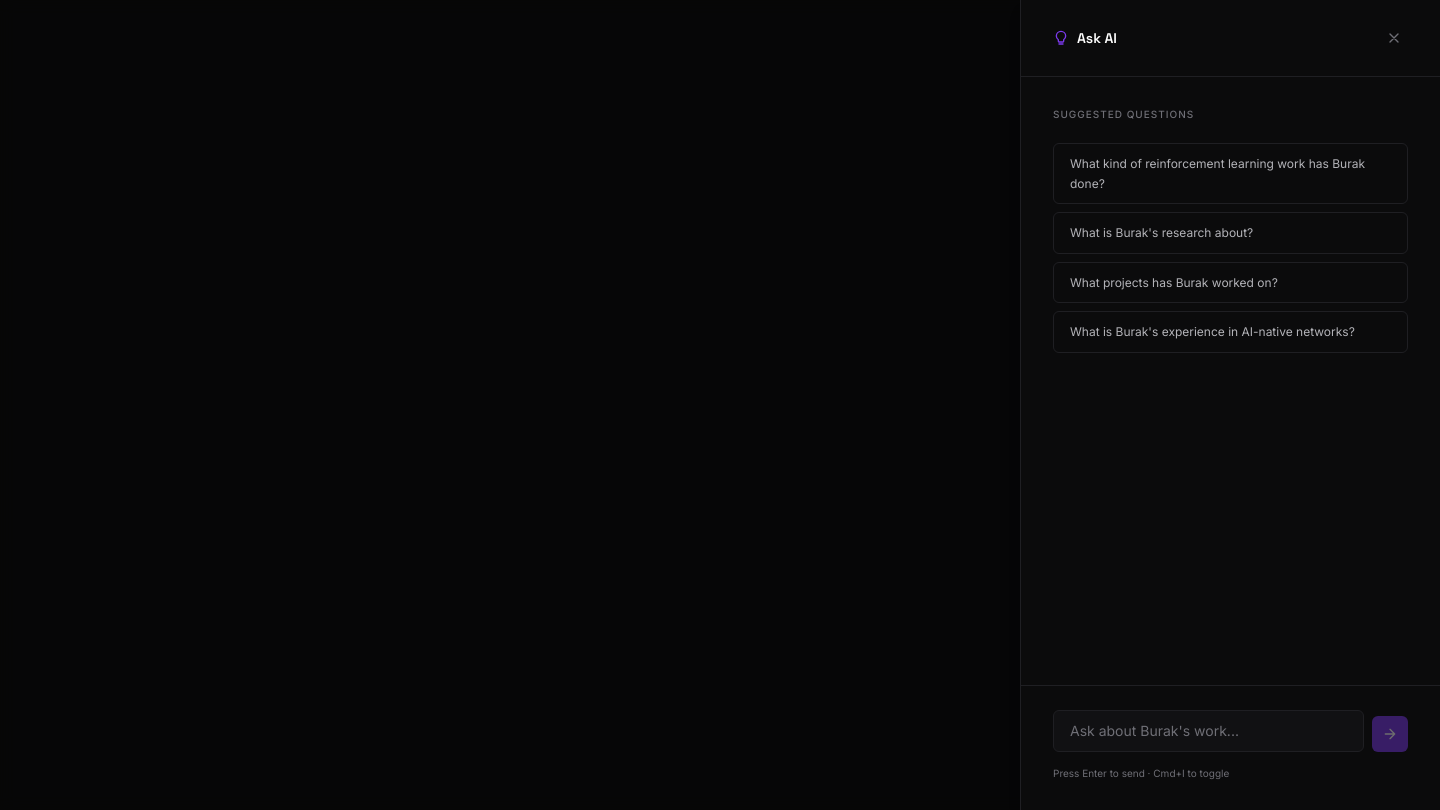
Scenario: AskAIPanel › submits a question and renders the answer
The width and height of the screenshot is (1440, 810).
In the text box with placeholder "Ask about Burak's work...": [1208, 731] box left=1053, top=710, right=1364, bottom=752, type "What does Burak do?"
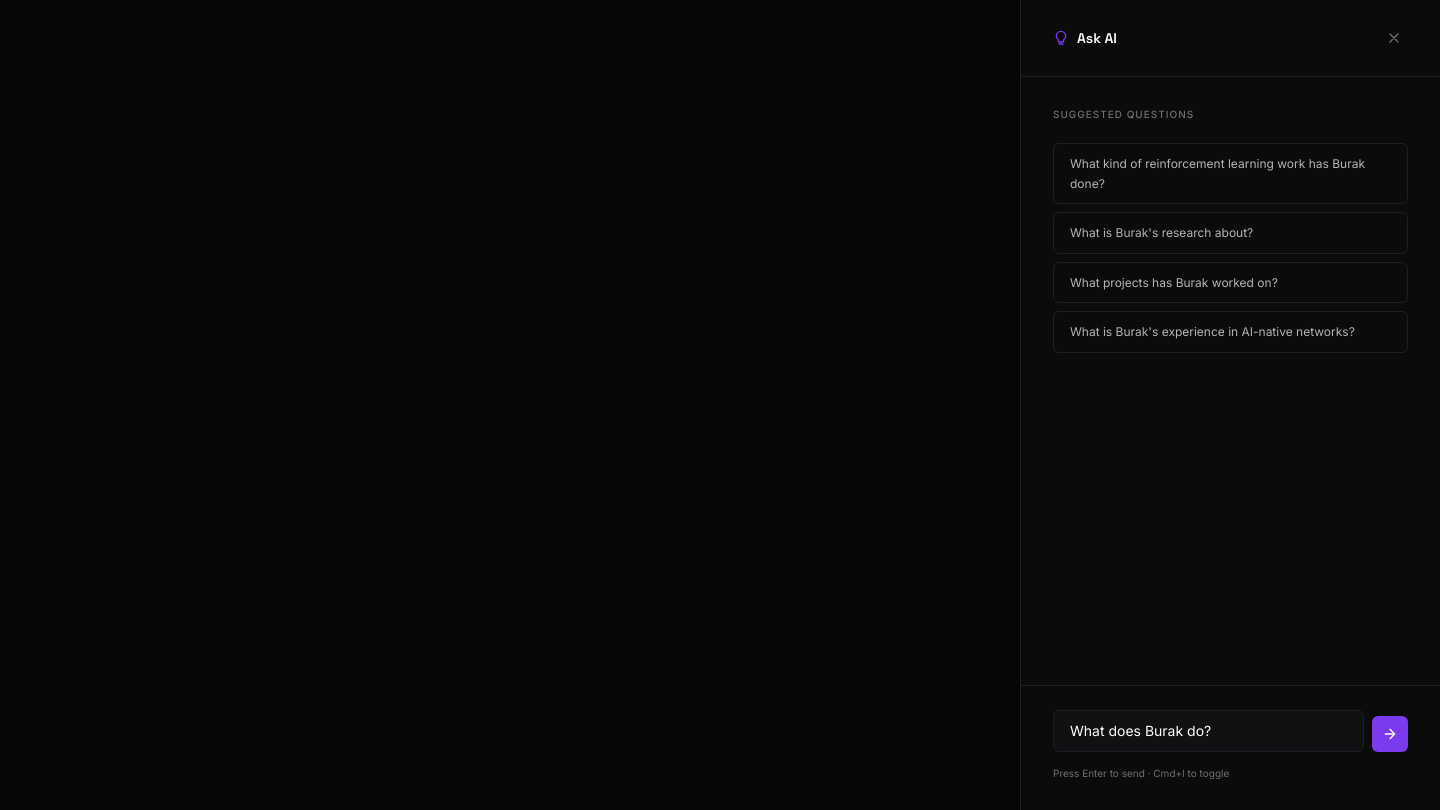
Press Enter in the text box with placeholder "Ask about Burak's work...", box left=1053, top=710, right=1364, bottom=752
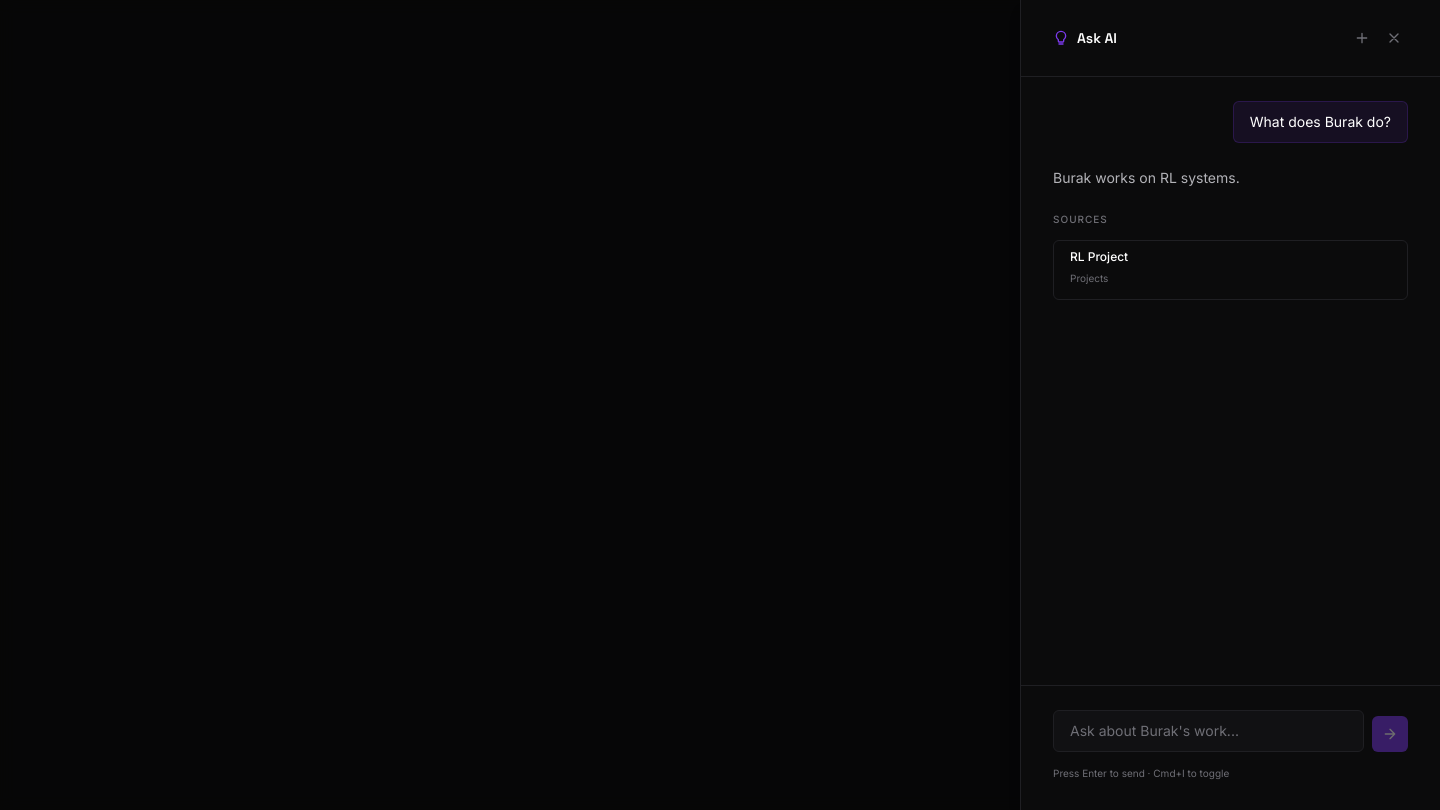
Now the text "Burak works on RL systems." is shown, box left=1053, top=169, right=1240, bottom=186
Now the text "RL Project" is shown, box left=1070, top=249, right=1128, bottom=264
